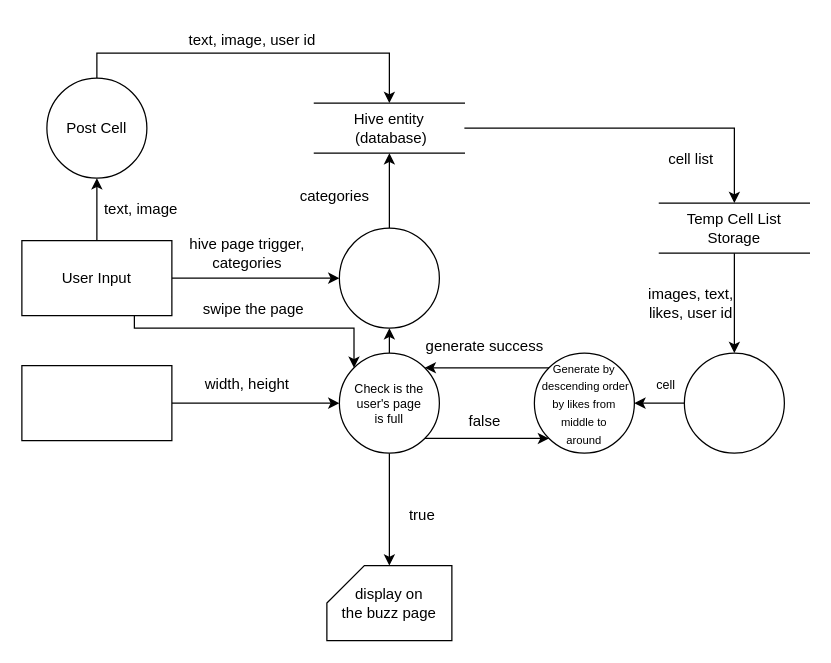
Image size: 831x663. Some labels were removed from this diagram. The centre of each missing label's shape, as x and y in pixels:
"Generate Cell" goes at (733,402).
"Get Cell" goes at (388,277).
"User Device Monitor Spacing" goes at (96,402).
